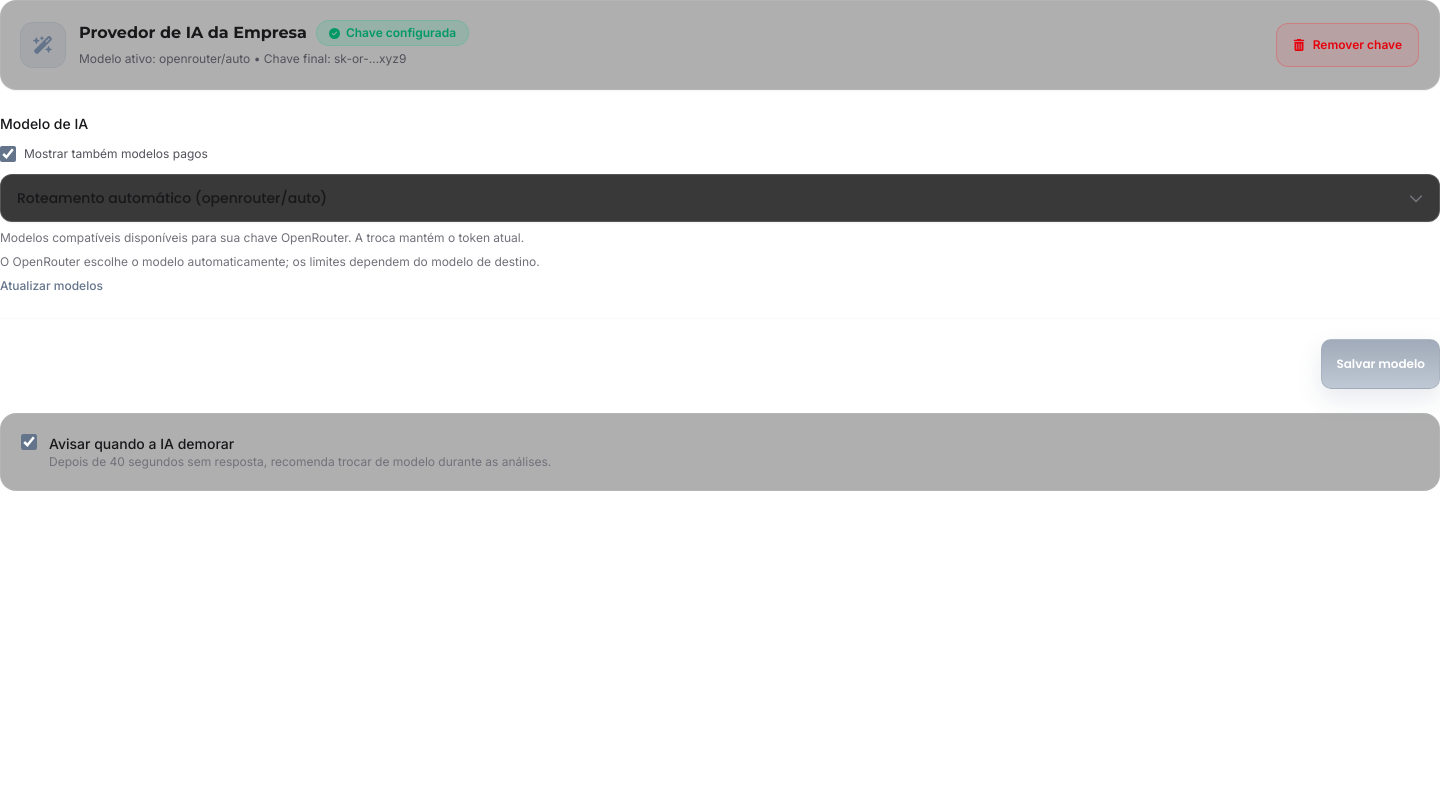
Test case: FormIaSettings — cadastro e remoção da chave › filtro de modelos gratuitos › preserva auto como seleção fora do filtro, sem apresentá-lo como gratuito
Click the checkbox labelled "Mostrar também modelos pagos" at [8, 154], box [0, 146, 16, 162]
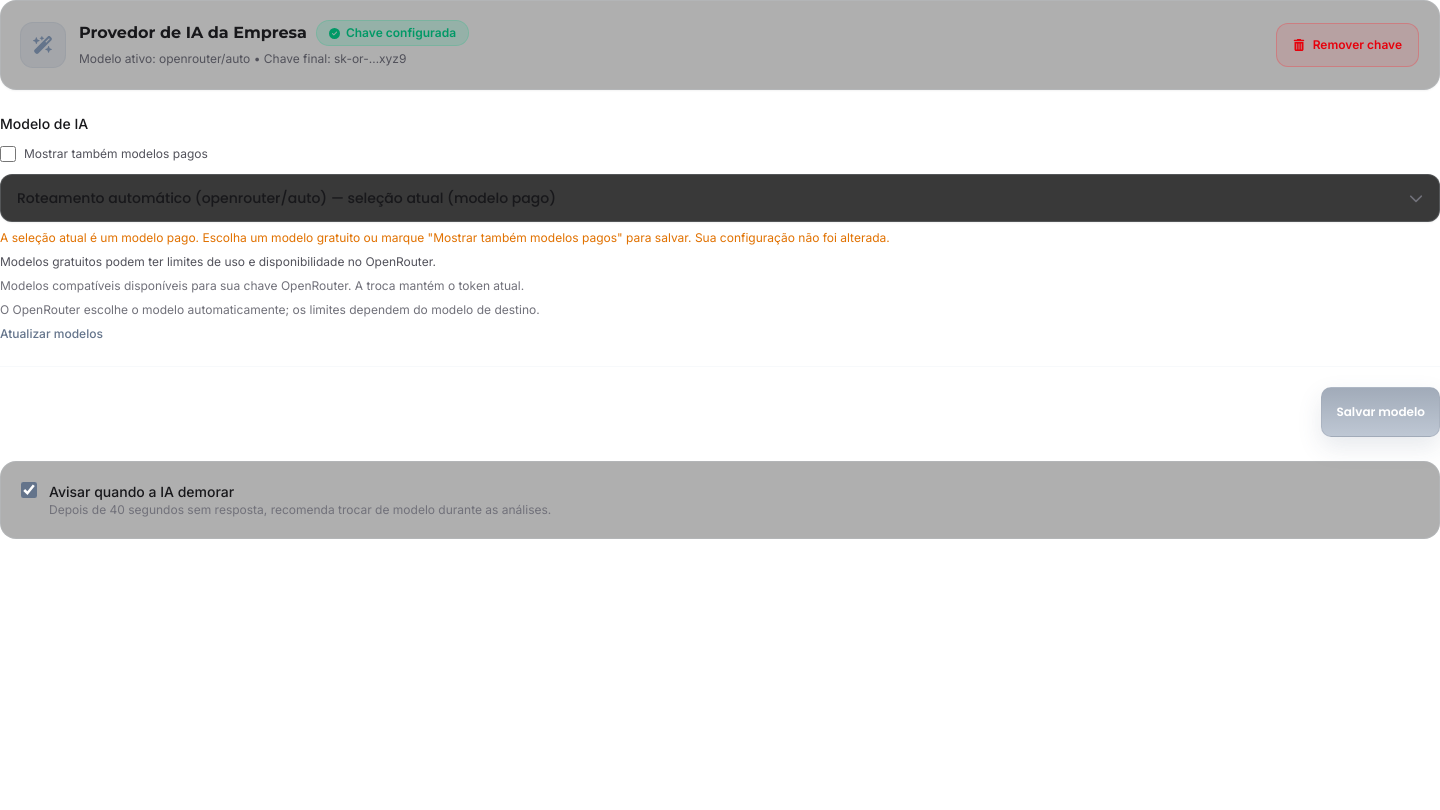
Click the dropdown named "Modelo de IA" at [287, 198], box [0, 174, 1439, 222]
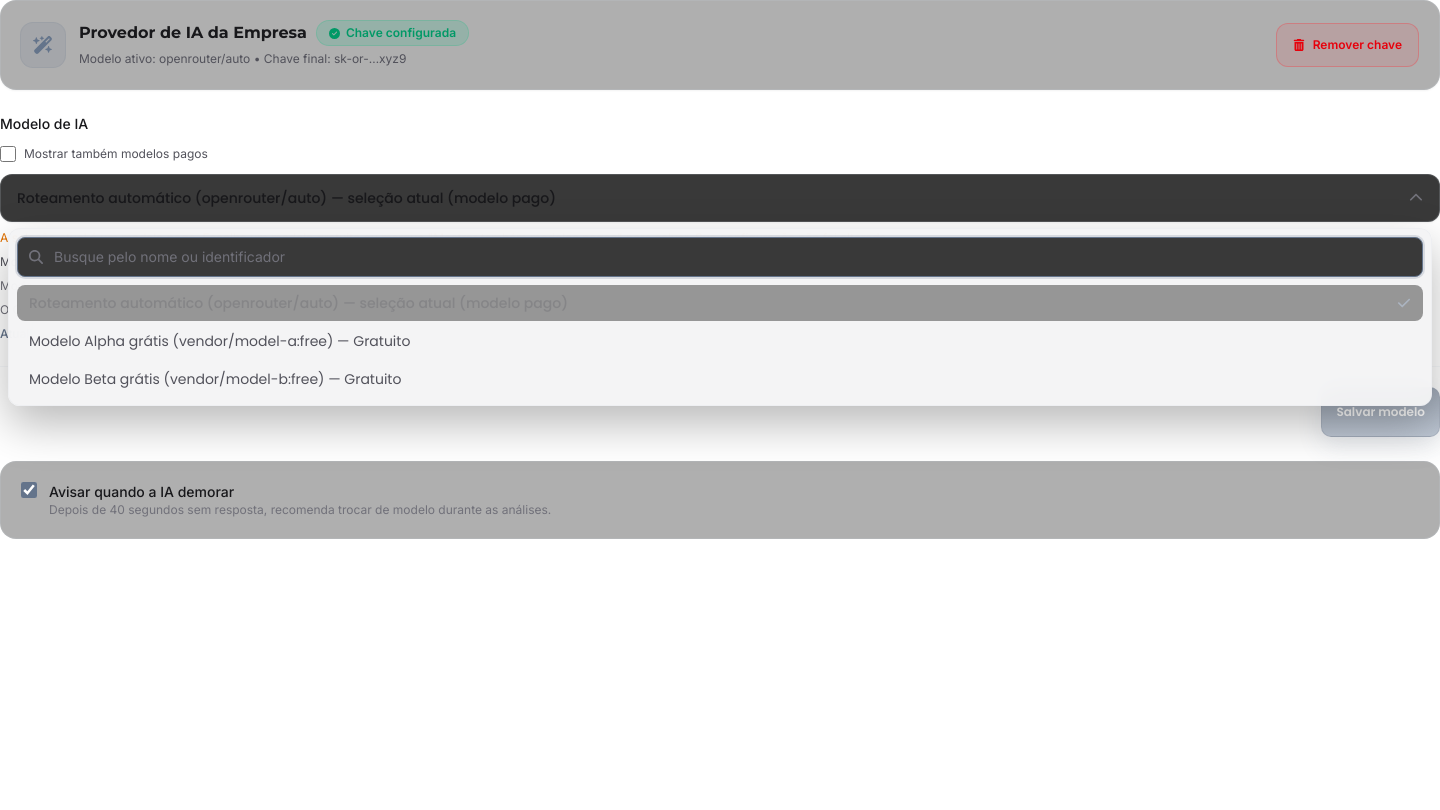
Expected: the button "Salvar modelo" is disabled, [1321, 386, 1439, 436]
Result: the text "A seleção atual é um modelo pago" is shown at [0, 230, 890, 244]
Result: the 1st option is disabled at [17, 284, 1423, 320]
